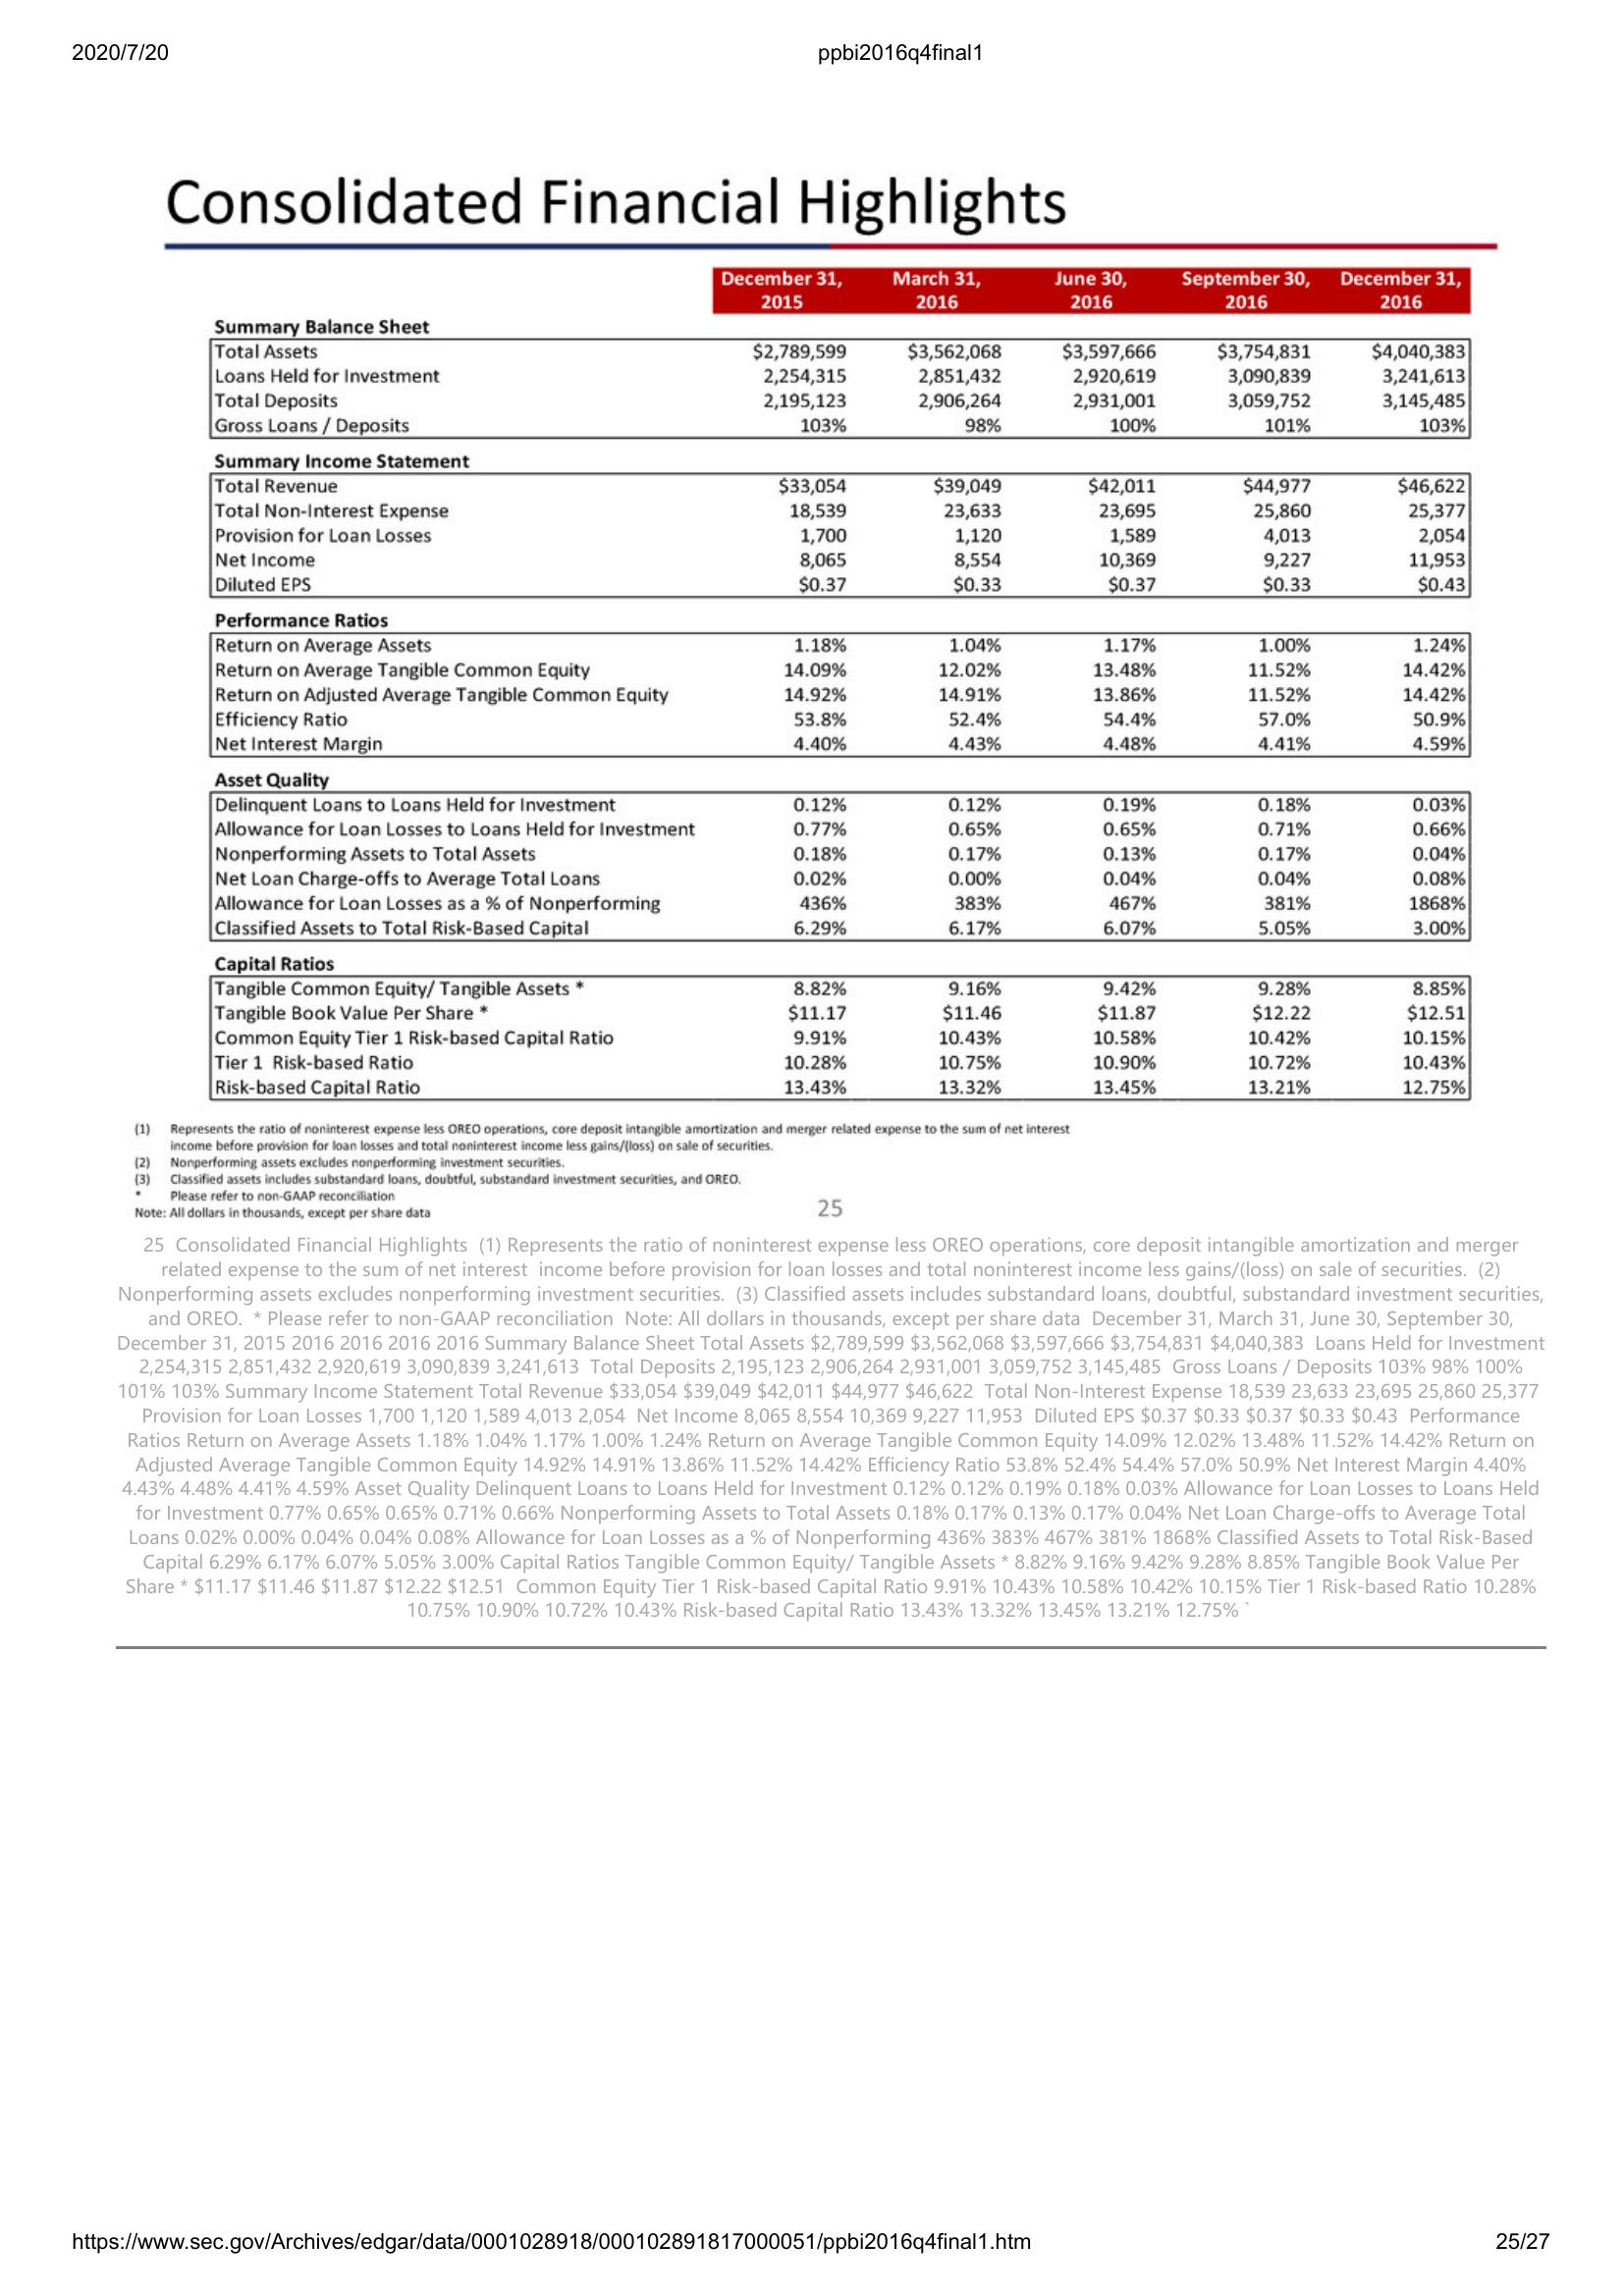table: (202, 262, 1490, 1108)
